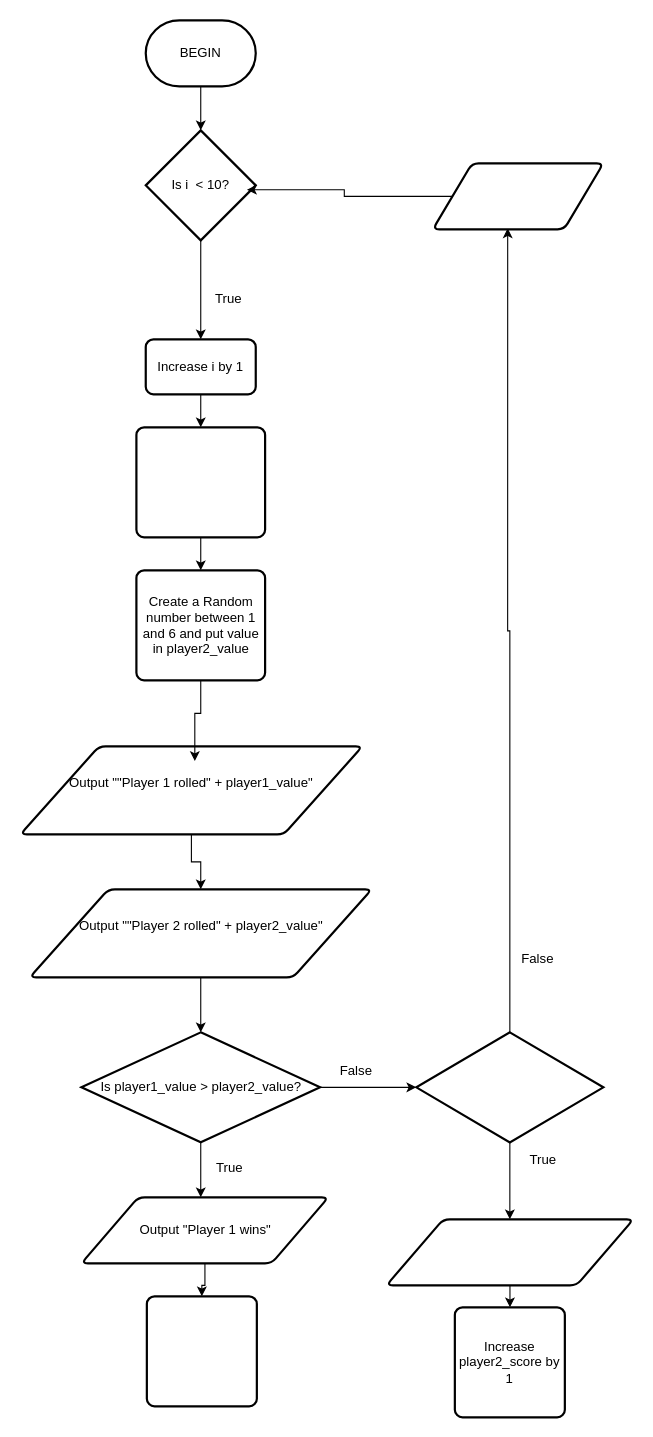
Some shapes in this 653 by 1437 pixel diagram are drawn without their labels. Each missing label, with the centre of its shape:
Create a Random number between 1 and 6 and put value in player1_value: the point at 200,482
Increase player1_score by 1: the point at 201,1351
Is player2_value > player1_value?: the point at 509,1087
Output "It''s a draw!": the point at 517,196
Output "Player 2 wins": the point at 509,1252
